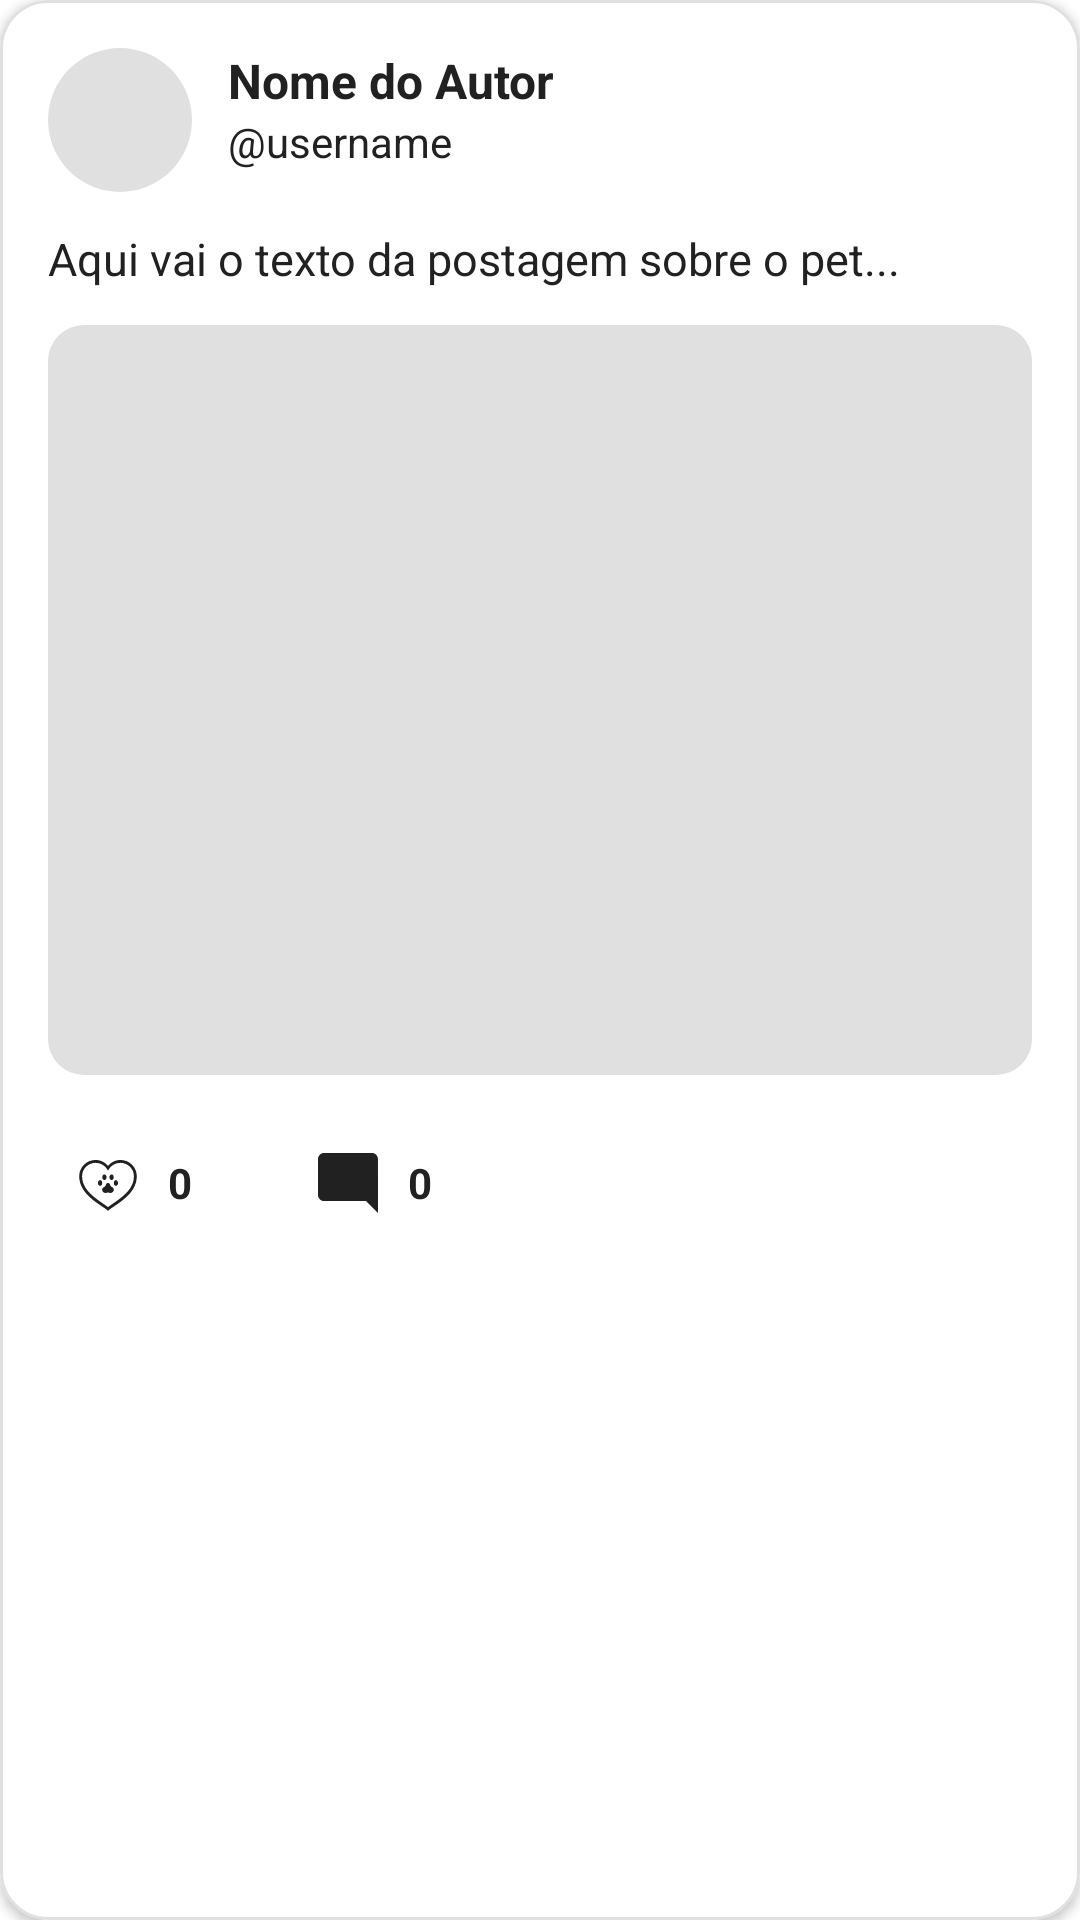

Where icons sit on this 1080 x 1920 app screen, as [x1=x1, y1=y1, x2=x2, y2=y2]:
mode comment: [x1=318, y1=1153, x2=378, y2=1213]
patinha curtir: [x1=79, y1=1160, x2=137, y2=1211]
